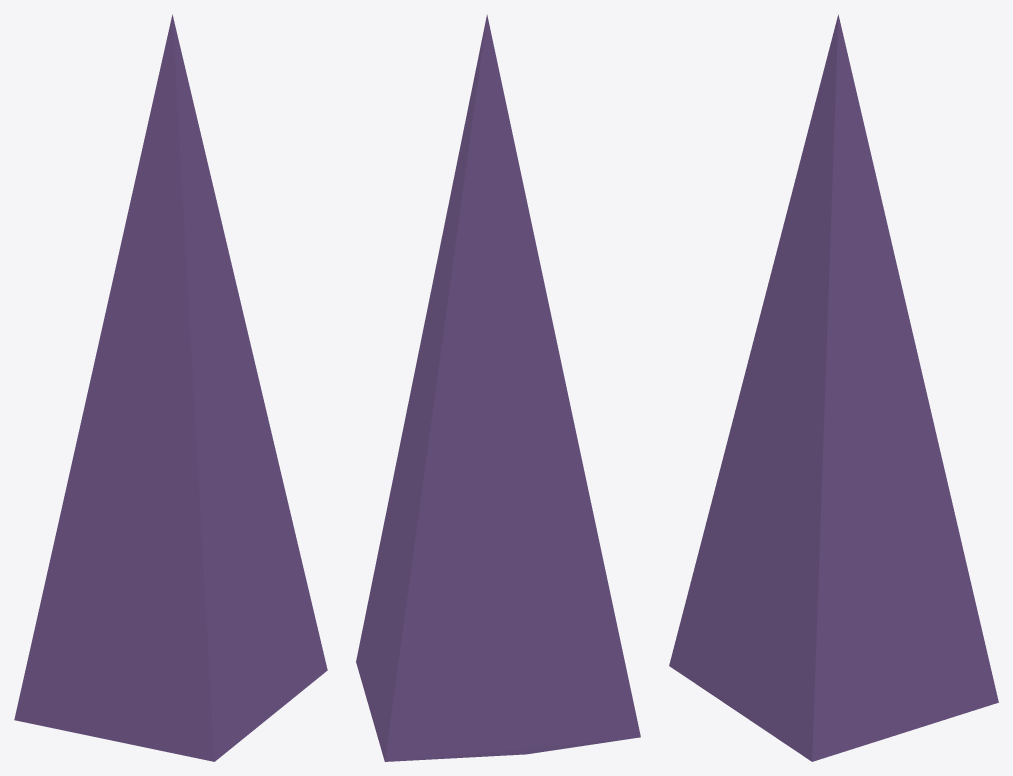
Rendered from tree05.fbx.
The picture shows the model from 3 angles, left to right: view 1: azimuth 30°, elevation 25°; view 2: azimuth 150°, elevation 25°; view 3: azimuth 270°, elevation 25°; orthographic projection. The views are drawn at different scales.
Visible parts, largest first — view 1: treeW3_03; view 2: treeW3_03; view 3: treeW3_03.
Part boxes in pixels (bbox=[...]): treeW3_03: bbox=[14, 14, 327, 761]; treeW3_03: bbox=[356, 14, 640, 761]; treeW3_03: bbox=[669, 14, 998, 761].
Bounding box in the file's own units: 2.58 × 5.97 × 2.5.
